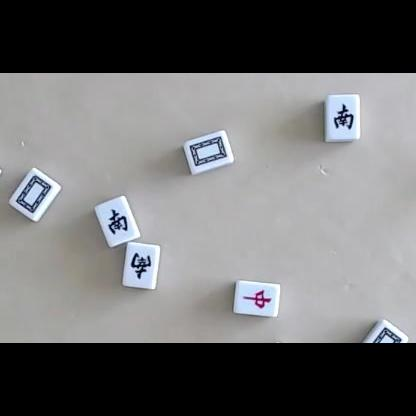2z: (107, 207, 129, 235), (131, 251, 152, 280), (333, 102, 354, 130)
5z: (16, 176, 52, 214), (188, 137, 228, 166), (365, 326, 402, 343)
7z: (242, 289, 272, 309)
